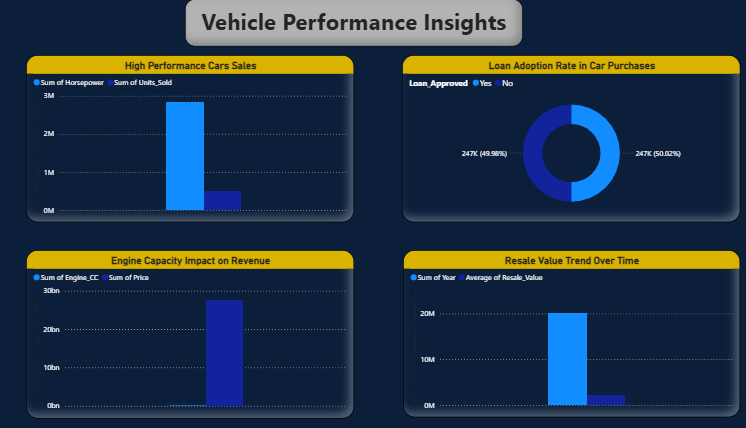

What the dashboard file says about the page in this screenshot:
{"tool":"powerbi","page":{"name":"VPI","canvas":[1280,720],"ordinal":2},"visuals":[{"type":"clusteredColumnChart","title":"High Performance Cars Sales","fields":{"Y":["Sum(car_sales_with_names_10000x21.Horsepower)","Sum(car_sales_with_names_10000x21.Units_Sold)"]},"box":[43.2,93.6,547.2,279.4],"z":0},{"type":"clusteredColumnChart","title":"Engine Capacity Impact on Revenue","fields":{"Y":["Sum(car_sales_with_names_10000x21.Engine_CC)","Sum(car_sales_with_names_10000x21.Price)"]},"box":[43.2,419,547.2,280.8],"z":1000},{"type":"clusteredColumnChart","title":"Resale Value Trend Over Time","fields":{"Y":["Sum(car_sales_with_names_10000x21.Year)","Avg(car_sales_with_names_10000x21.Resale_Value)"]},"box":[672.5,419,561.6,279.4],"z":2000},{"type":"donutChart","title":"Loan Adoption Rate in Car Purchases","fields":{"Category":["car_sales_with_names_10000x21.Loan_Approved"],"Y":["Sum(car_sales_with_names_10000x21.Units_Sold)"]},"box":[669.6,93.6,564.5,279.4],"z":3000},{"type":"textbox","box":[308.2,0,563,79.2],"z":5000}]}

Visuals, with their boxes in screenshot pixels (x1, y1, x2, y2), scaled from the page's 1280x720 canvas onto the 746x428 screenshot:
"High Performance Cars Sales" clusteredColumnChart: box=[25, 56, 344, 222]
"Engine Capacity Impact on Revenue" clusteredColumnChart: box=[25, 249, 344, 416]
"Resale Value Trend Over Time" clusteredColumnChart: box=[392, 249, 719, 415]
"Loan Adoption Rate in Car Purchases" donutChart: box=[390, 56, 719, 222]
textbox: box=[180, 0, 508, 47]
